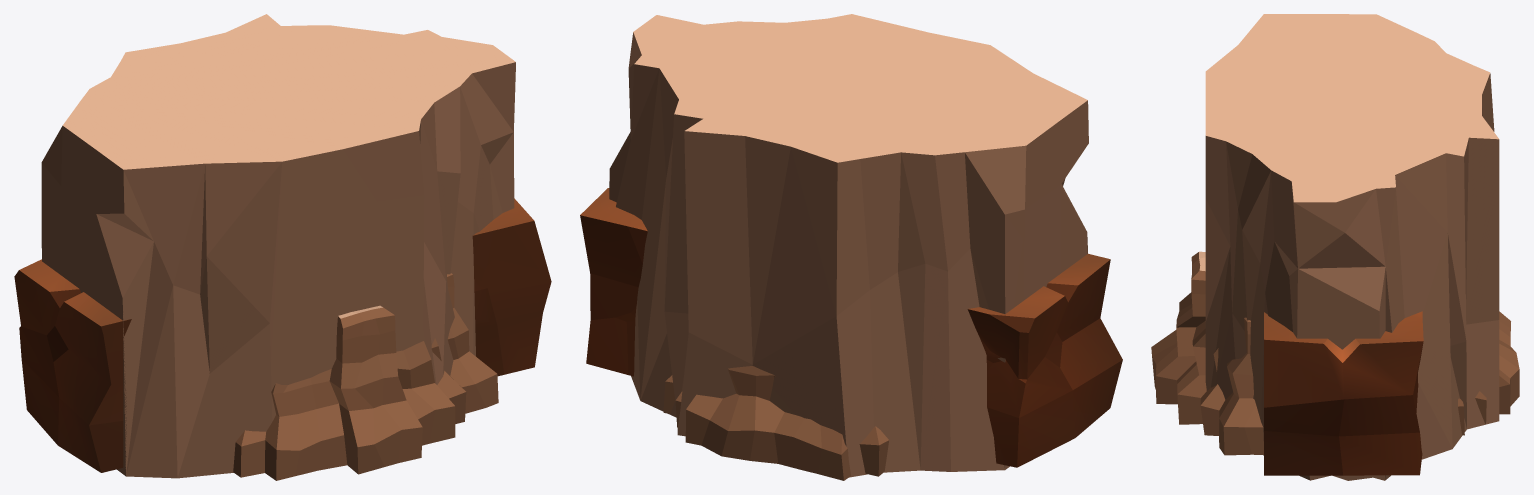
File: Canyon_Obj_26548.fbx
The picture shows the model from 3 angles, left to right: view 1: azimuth 30°, elevation 25°; view 2: azimuth 150°, elevation 25°; view 3: azimuth 270°, elevation 25°; orthographic projection. The views are drawn at different scales.
Parts seen in each view (by area): view 1: Medium_Rock_Form, Cube, W/edge_Rock_form_2; view 2: Medium_Rock_Form, Cube, W/edge_Rock_form_2; view 3: Medium_Rock_Form, Cube, W/edge_Rock_form_2.
Part boxes in pixels (box(x1,y1,x2,y2)): Medium_Rock_Form: box(41, 14, 515, 478); Cube: box(14, 198, 551, 472); W/edge_Rock_form_2: box(233, 273, 498, 480); Medium_Rock_Form: box(609, 14, 1088, 477); Cube: box(580, 188, 1122, 467); W/edge_Rock_form_2: box(663, 366, 889, 480); Medium_Rock_Form: box(1205, 14, 1499, 480); Cube: box(1264, 311, 1423, 475); W/edge_Rock_form_2: box(1151, 251, 1519, 455).
Size of the model in its own units: 1974 by 1321 by 1453.
